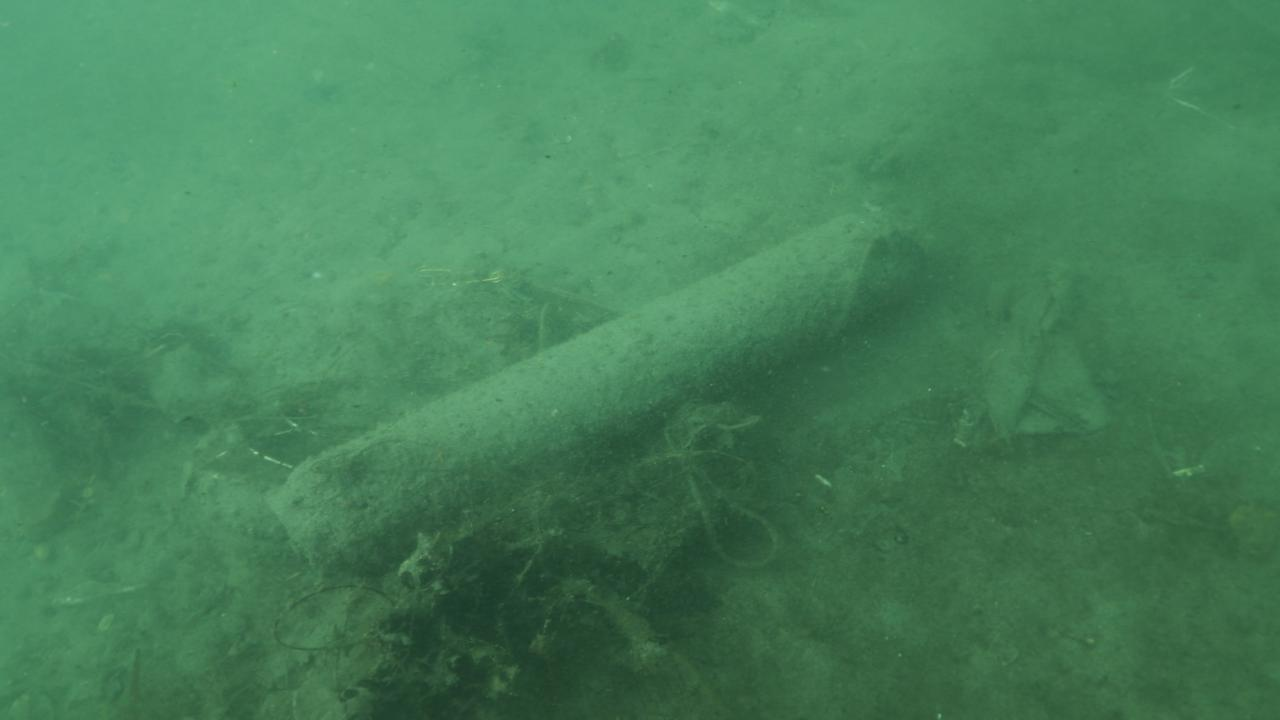eel fish trap: (265, 200, 935, 586)
